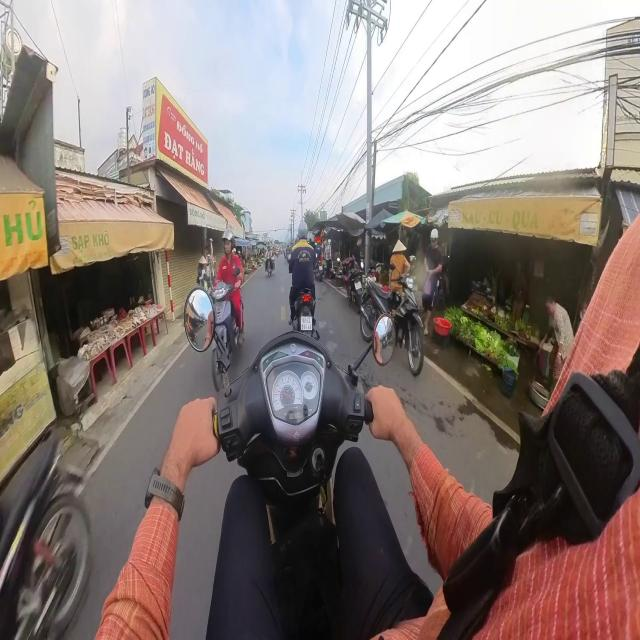motorcycle: (214, 316, 395, 638), (0, 438, 91, 639), (360, 276, 423, 375), (201, 284, 245, 398), (294, 289, 319, 337), (346, 261, 364, 311), (315, 258, 324, 281)
